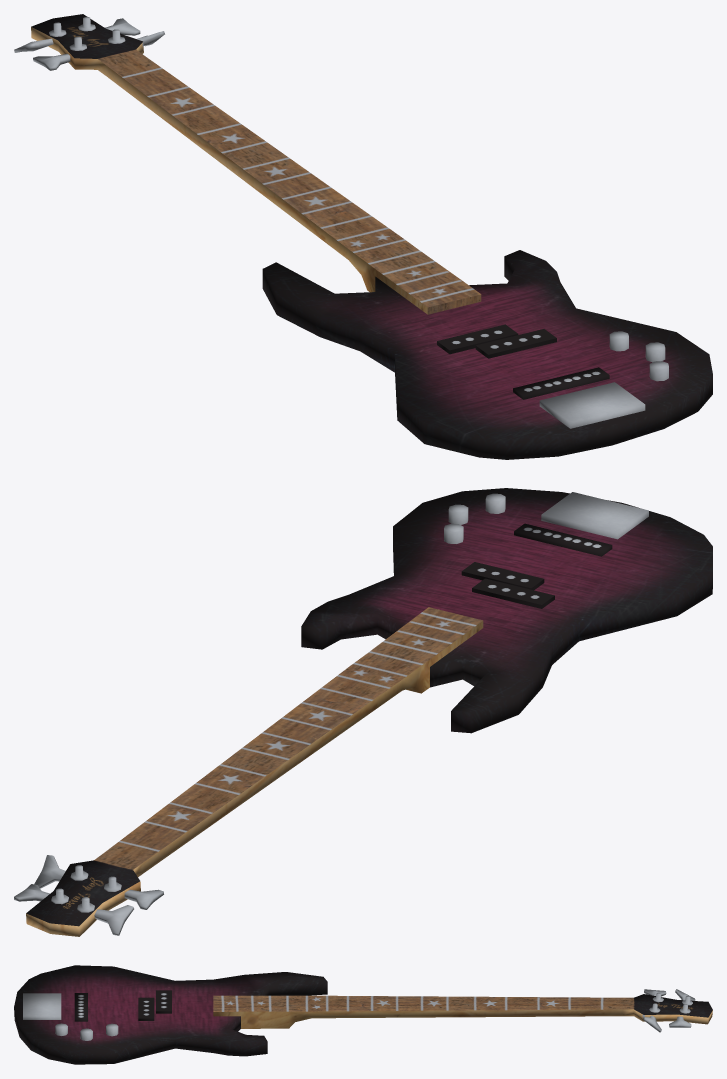
Rendered from bass.fbx.
3 renders of one model, top to bottom at view 1: azimuth 30°, elevation 25°; view 2: azimuth 150°, elevation 25°; view 3: azimuth 270°, elevation 25°, orthographic. The views are drawn at different scales.
Visible parts, largest first — view 1: Bass; view 2: Bass; view 3: Bass.
Boxes of the visible parts, x1,y1,x2,y2 form: Bass: (14,14,712,459); Bass: (14,488,712,936); Bass: (14,965,712,1064).
Size of the model in its own units: 0.4103 by 1.4 by 0.0475.
